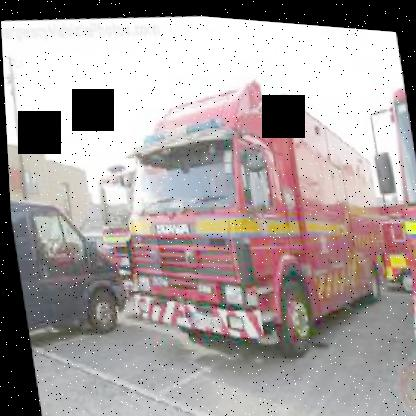emergency: (88, 55, 399, 379)
